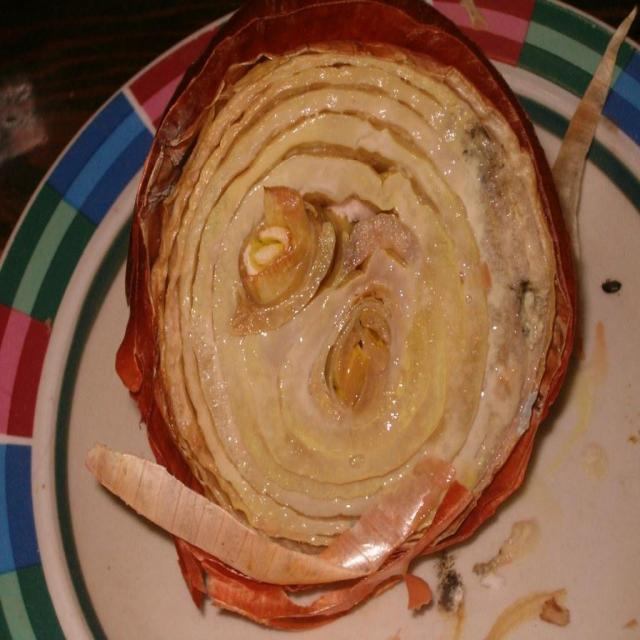Onion: (85, 0, 640, 640)
